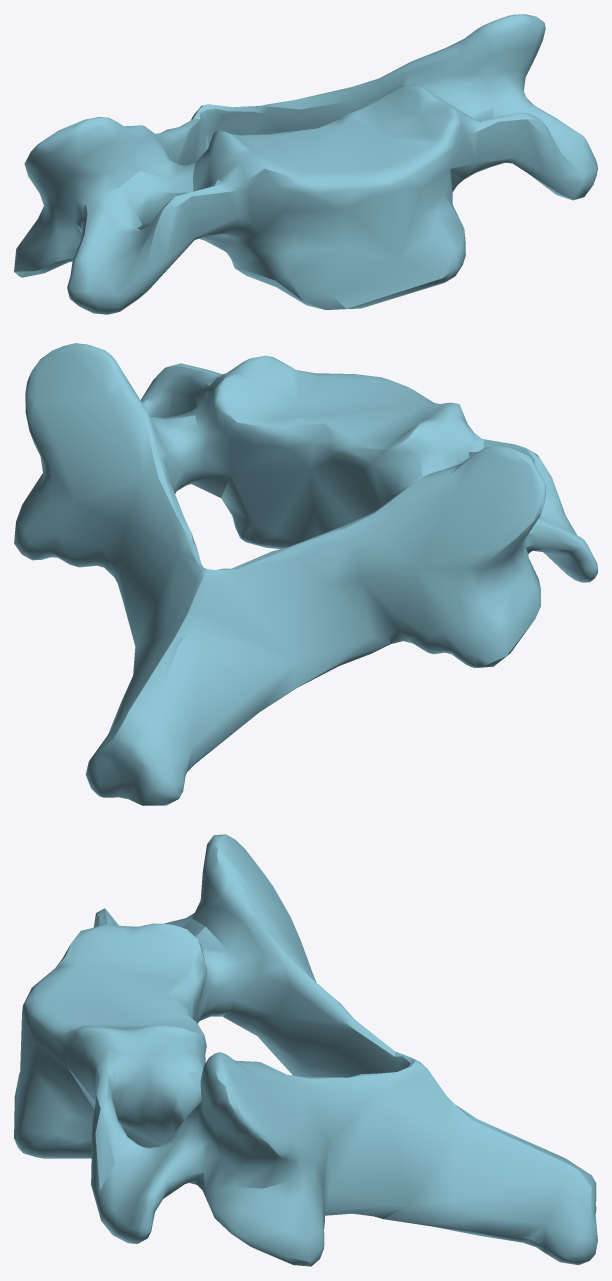
3 renders of one model, top to bottom at view 1: azimuth 30°, elevation 25°; view 2: azimuth 150°, elevation 25°; view 3: azimuth 270°, elevation 25°, orthographic. The views are drawn at different scales.
Visible parts, largest first — view 1: grp1; view 2: grp1; view 3: grp1.
Part boxes in pixels (box(x1,y1,x2,y2)): grp1: box(14, 14, 597, 314); grp1: box(14, 343, 597, 805); grp1: box(14, 834, 597, 1266).
Bounding box in the file's own units: 0.0541 × 0.0275 × 0.0484.
